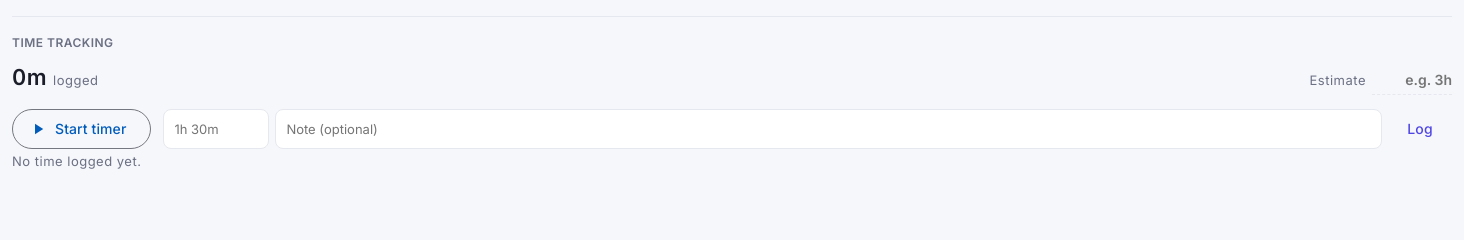
Test: TaskTimeComponent › logs time by hand
Type "soon" into the field with placeholder "1h 30m".
click(216, 129); type("soon")  # box [163, 109, 269, 149]
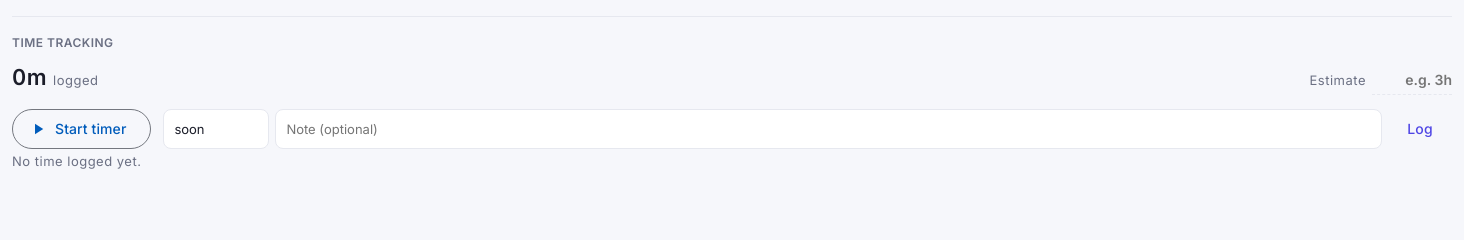
Click the button "Log".
click(1420, 129)  # box [1388, 109, 1452, 149]
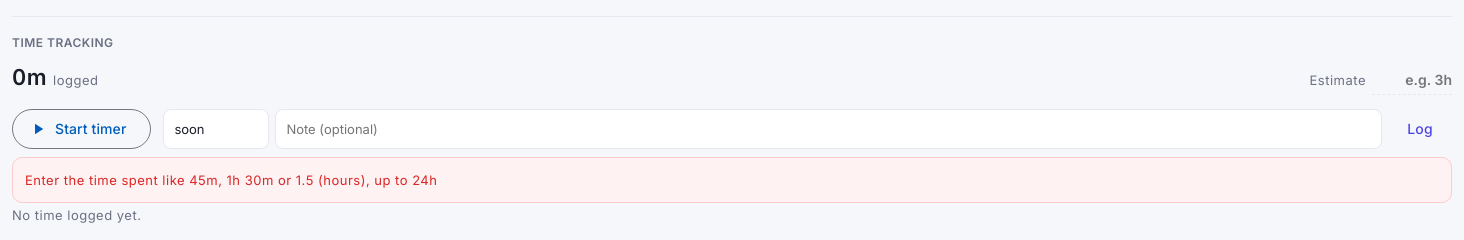
Result: the text "like 45m, 1h 30m" is shown at [25, 172, 437, 188]
Replace the text in the field named "Time spent" with "1h 15m" at [216, 129], box [163, 109, 269, 149]
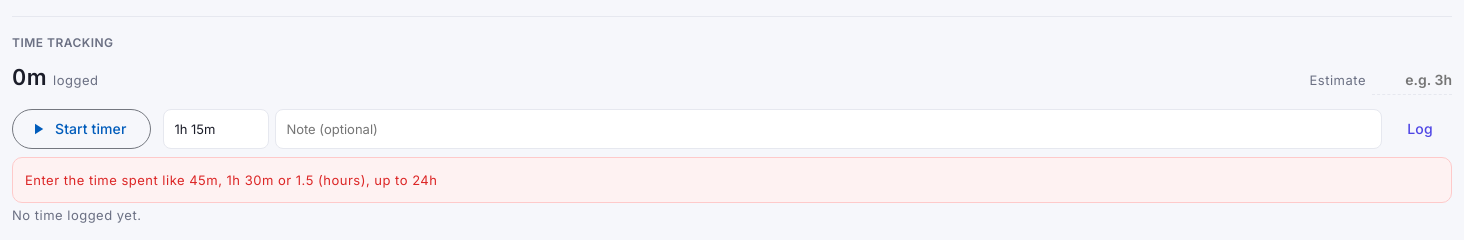
Type "  Review " into the field with placeholder "Note (optional)".
click(829, 129); type("  Review ")  # box [275, 109, 1382, 149]
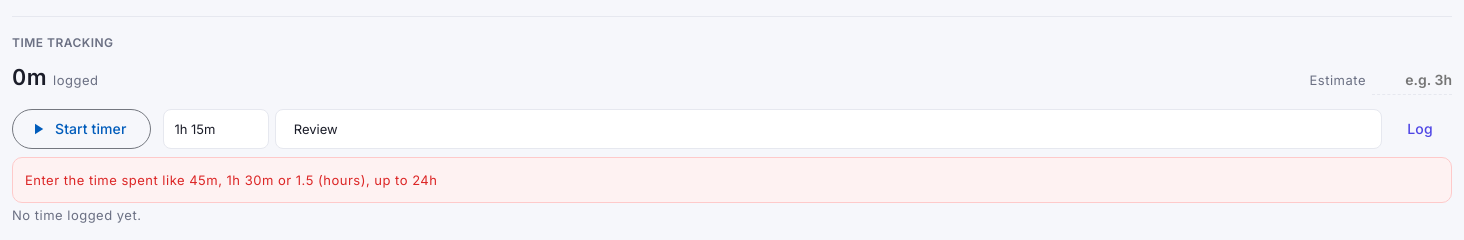
Click the button "Log".
click(1420, 129)  # box [1388, 109, 1452, 149]
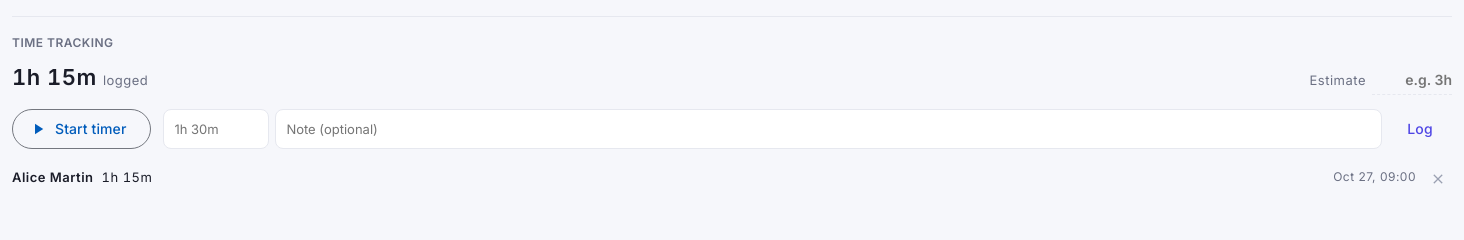
Result: the text "1h 15m" next to "logged" is shown at [12, 64, 97, 90]
